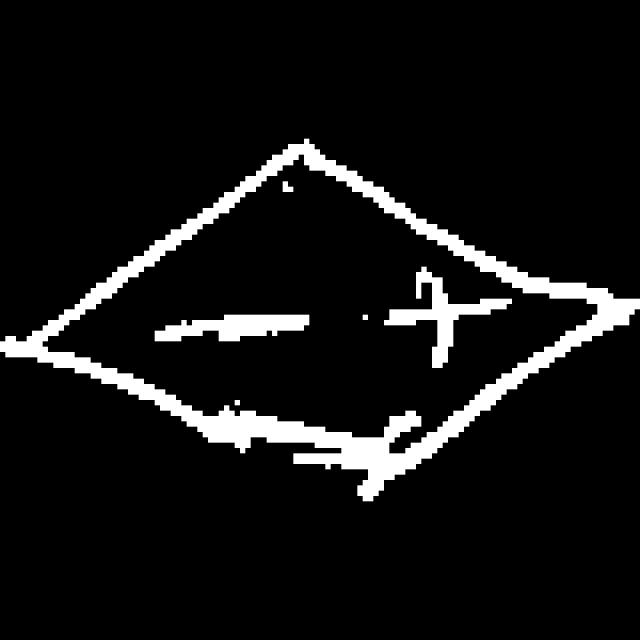dependant_voltage: (22, 131, 598, 500)
